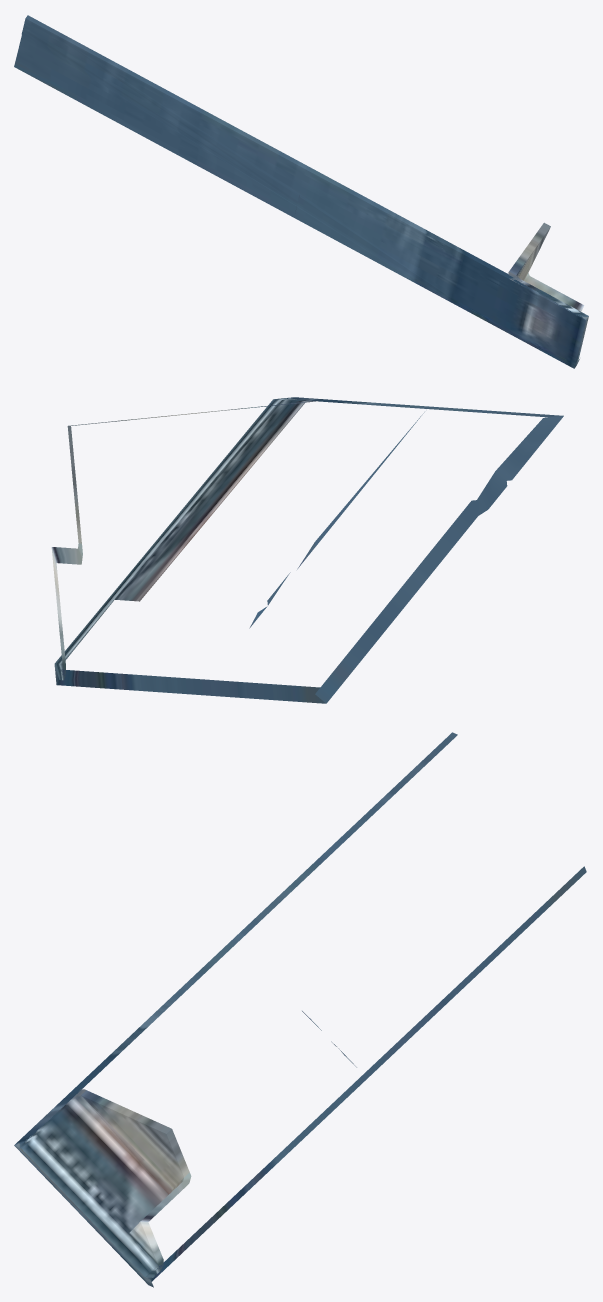
Rendered from masp_tile_4.glb.
3 renders of one model, top to bottom at view 1: azimuth 30°, elevation 25°; view 2: azimuth 150°, elevation 25°; view 3: azimuth 270°, elevation 25°, orthographic. The views are drawn at different scales.
Bounding box in the file's own units: 26.99 × 21.48 × 31.88.
Materials: 1 (1 with a texture image).
